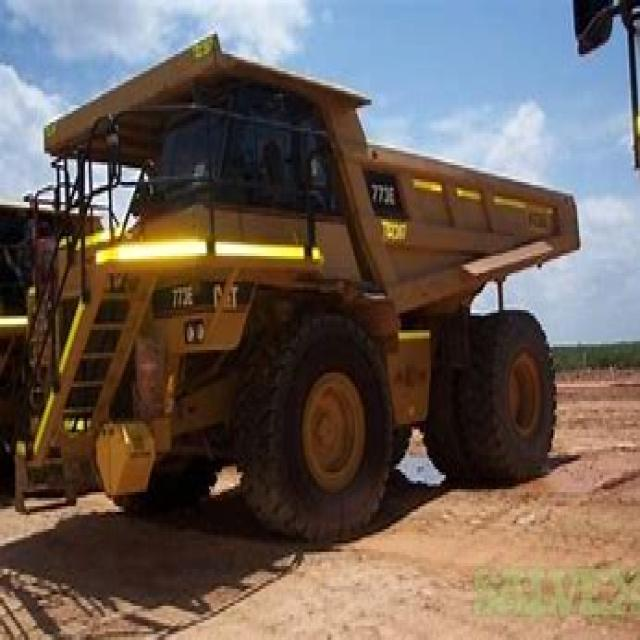dump_truck: (18, 37, 596, 529)
